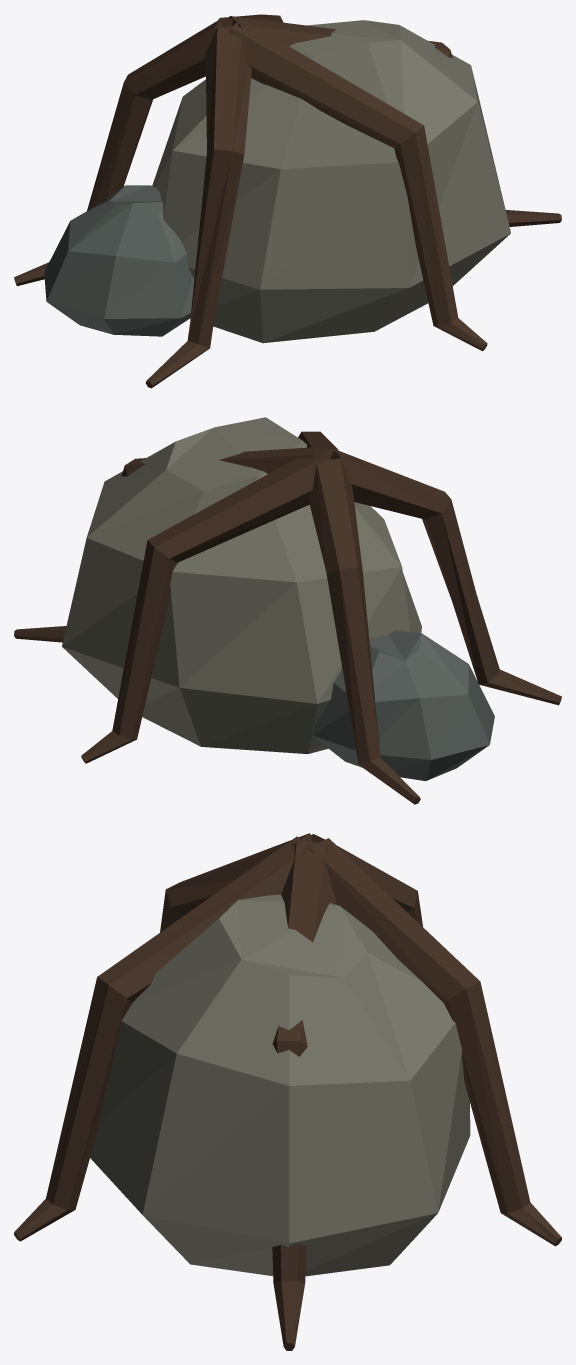
File: Prop_Common_RootClaspedBoulder_001.glb
The picture shows the model from 3 angles, top to bottom: view 1: azimuth 30°, elevation 25°; view 2: azimuth 150°, elevation 25°; view 3: azimuth 270°, elevation 25°; orthographic projection. The views are drawn at different scales.
Visible parts, largest first — view 1: Prop_Common_RootClaspedBoulder_001; view 2: Prop_Common_RootClaspedBoulder_001; view 3: Prop_Common_RootClaspedBoulder_001.
Part boxes in pixels (bbox=[...]): Prop_Common_RootClaspedBoulder_001: bbox=[14, 14, 561, 388]; Prop_Common_RootClaspedBoulder_001: bbox=[14, 417, 561, 804]; Prop_Common_RootClaspedBoulder_001: bbox=[14, 833, 561, 1350].
Size of the model in its own units: 3.01 by 1.61 by 2.41.
